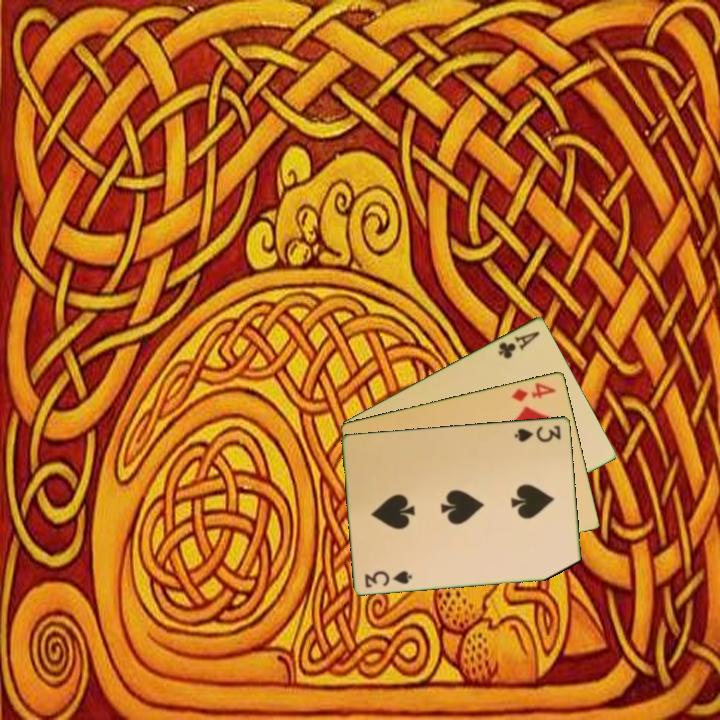3s: (362, 567, 415, 590), (511, 422, 564, 444)
4d: (508, 379, 559, 404)
Ac: (495, 327, 543, 361)
